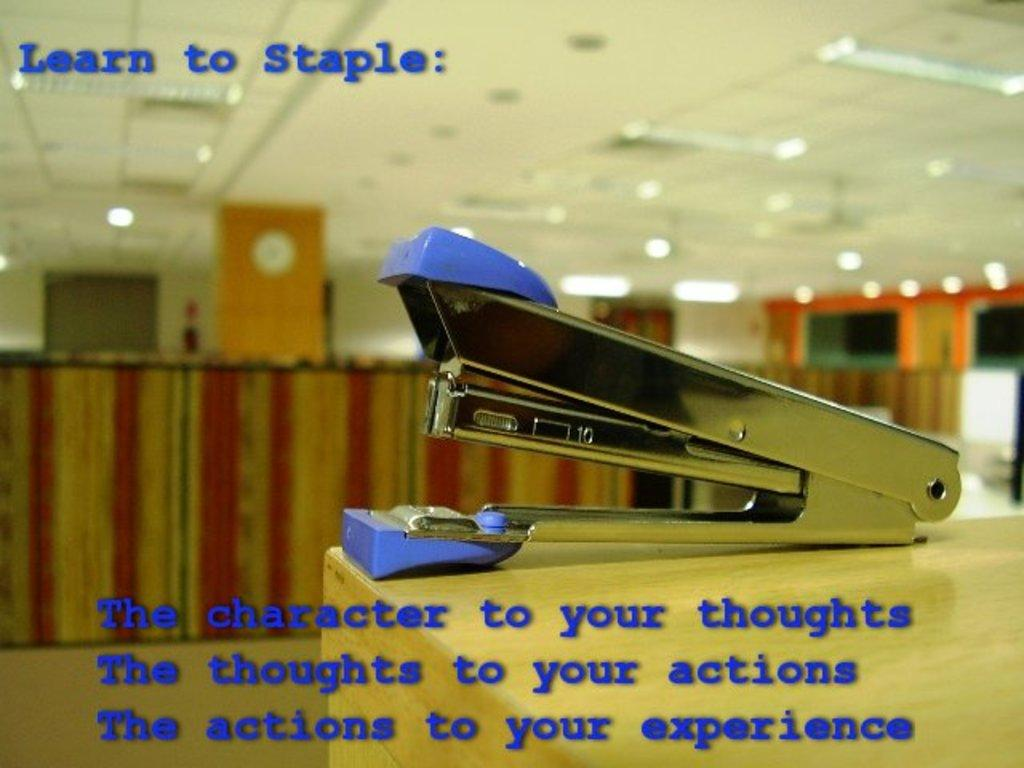Luggage-and-bags: (347, 227, 963, 576)
